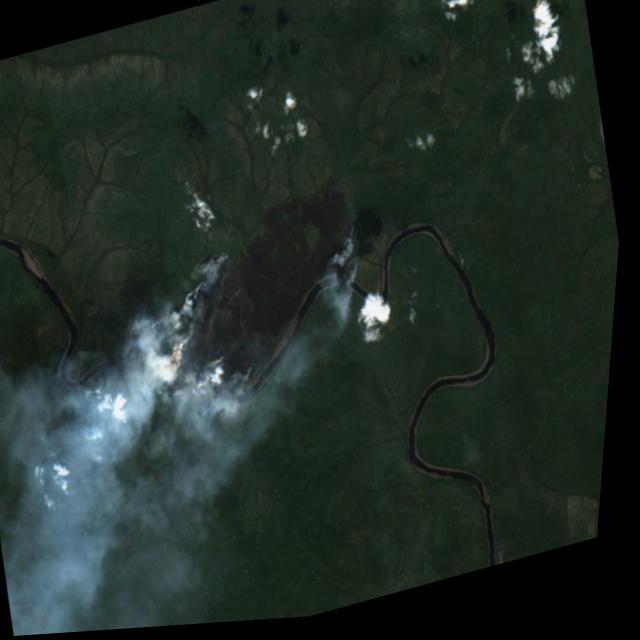fire: (120, 267, 232, 424)
